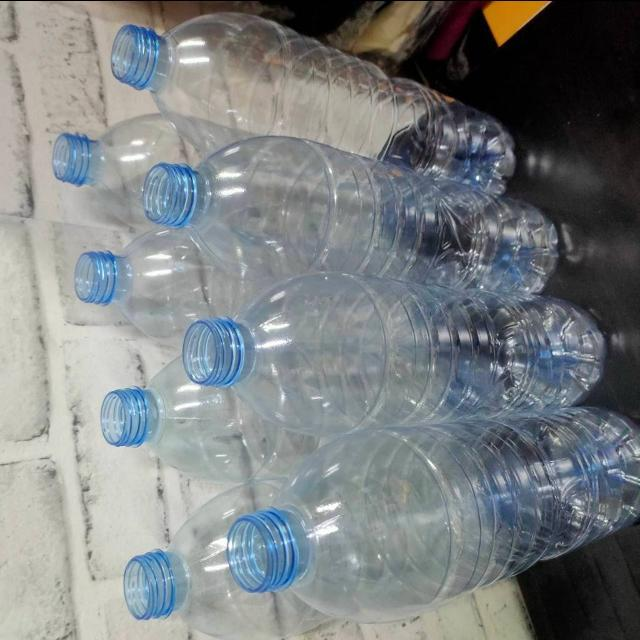PET Bottle: (7, 139, 178, 624), (163, 423, 640, 592), (103, 152, 589, 304), (92, 11, 538, 176), (131, 291, 631, 432)
